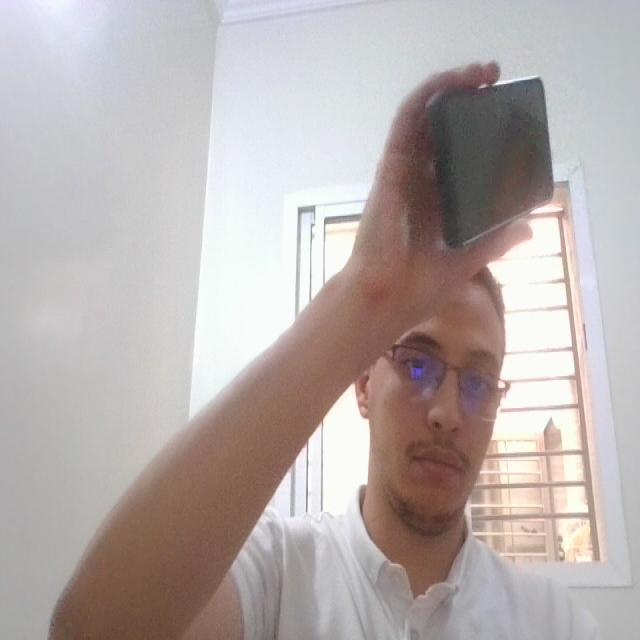phone: (424, 64, 578, 255)
